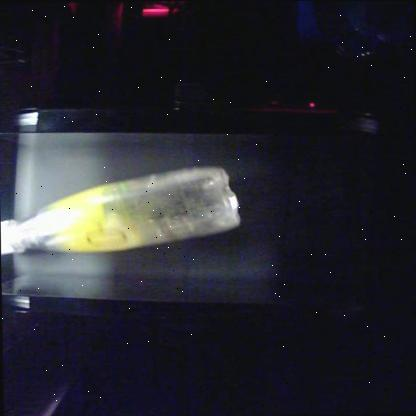Plastic Bottle: (2, 167, 240, 253)
